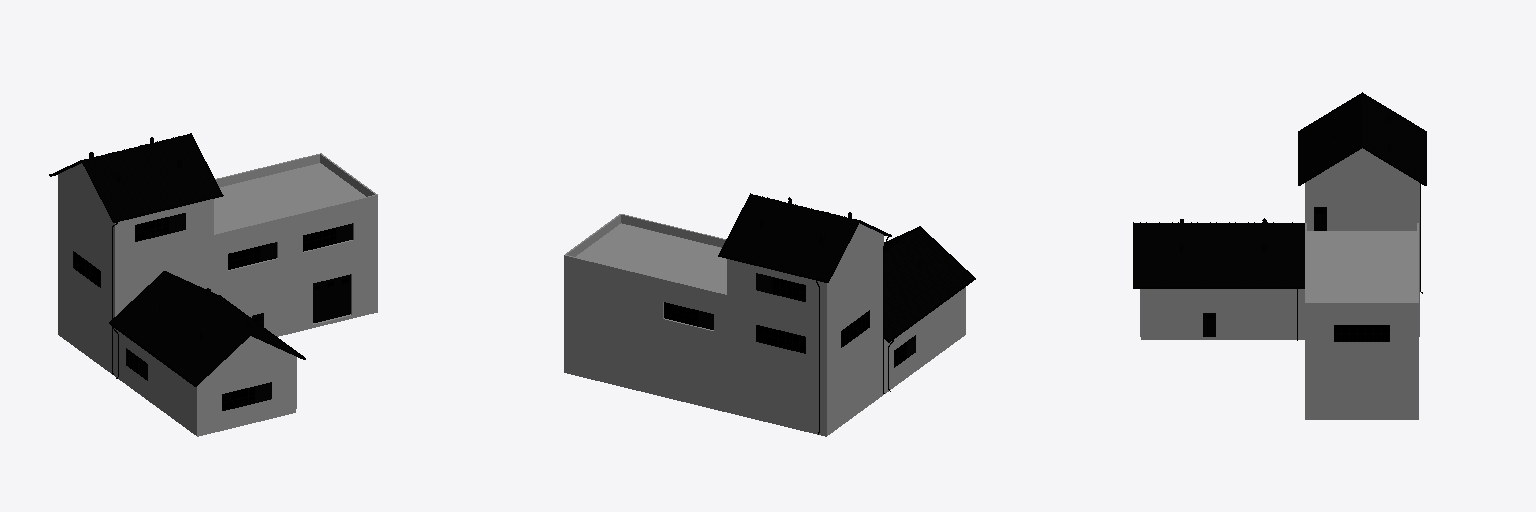
Rendered from casa.obj.
3 renders of one model, left to right at view 1: azimuth 30°, elevation 25°; view 2: azimuth 150°, elevation 25°; view 3: azimuth 270°, elevation 25°, orthographic.
Visible parts, largest first — view 1: Vent; view 2: Vent; view 3: Vent.
Boxes of the visible parts, x1=… form: Vent: x1=49, y1=133, x2=377, y2=436; Vent: x1=564, y1=193, x2=975, y2=436; Vent: x1=1133, y1=92, x2=1426, y2=419.
Size of the model in its own units: 7.52 by 5.26 by 7.1.